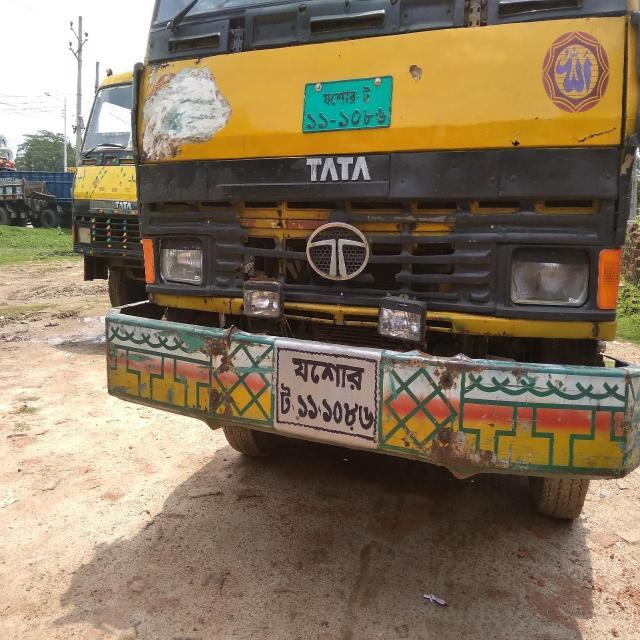numberplate: (272, 343, 380, 446), (300, 74, 393, 133)
